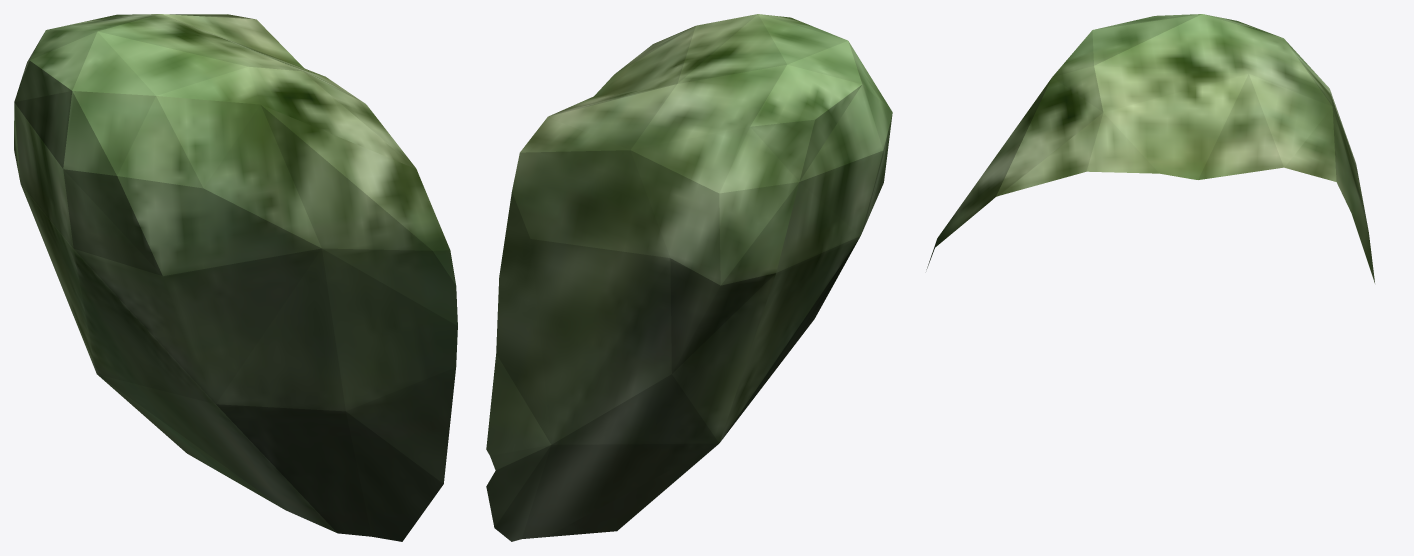
3 renders of one model, left to right at view 1: azimuth 30°, elevation 25°; view 2: azimuth 150°, elevation 25°; view 3: azimuth 270°, elevation 25°, orthographic. The views are drawn at different scales.
Size of the model in its own units: 0.4492 by 0.7693 by 0.7606.
Materials: 1 (1 with a texture image).
